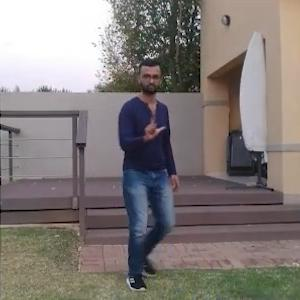land_hand: (137, 106, 169, 145)
